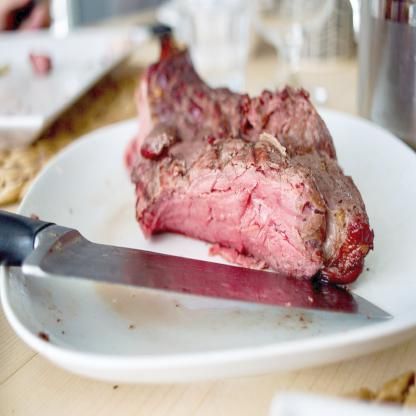Carne: (126, 66, 372, 285)
